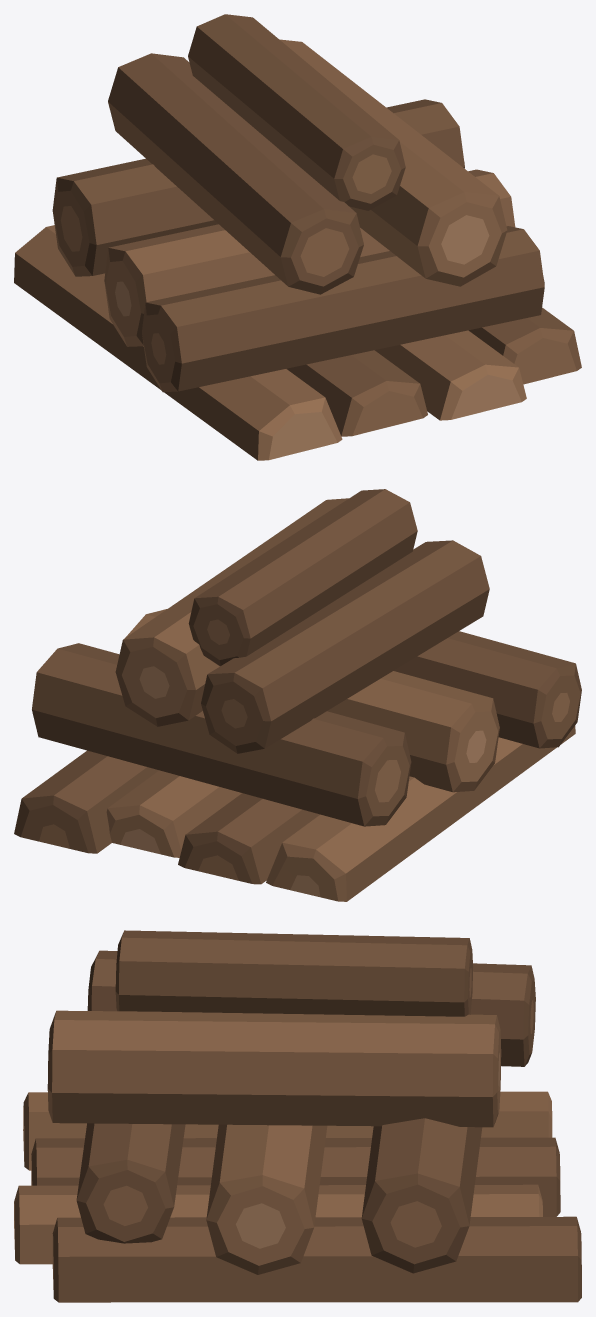
The model's file is bonfire_7.fbx.
The picture shows the model from 3 angles, top to bottom: view 1: azimuth 30°, elevation 25°; view 2: azimuth 150°, elevation 25°; view 3: azimuth 270°, elevation 25°; orthographic projection. The views are drawn at different scales.
Parts seen in each view (by area): view 1: bonfire_7; view 2: bonfire_7; view 3: bonfire_7.
Boxes of the visible parts, x1,y1,x2,y2 form: bonfire_7: (14, 14, 581, 460); bonfire_7: (14, 489, 581, 901); bonfire_7: (14, 930, 581, 1302).
Bounding box in the file's own units: 72.58 × 42.18 × 80.12.
Materials: 1 (1 with a texture image).
